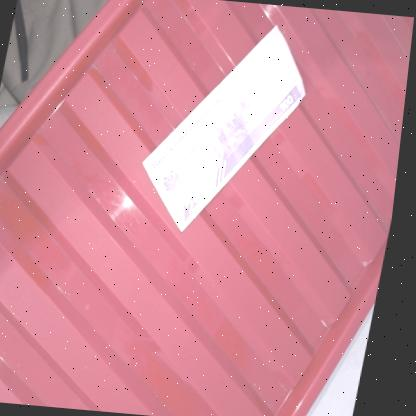one_hundred-back-vef: (133, 15, 321, 240)
